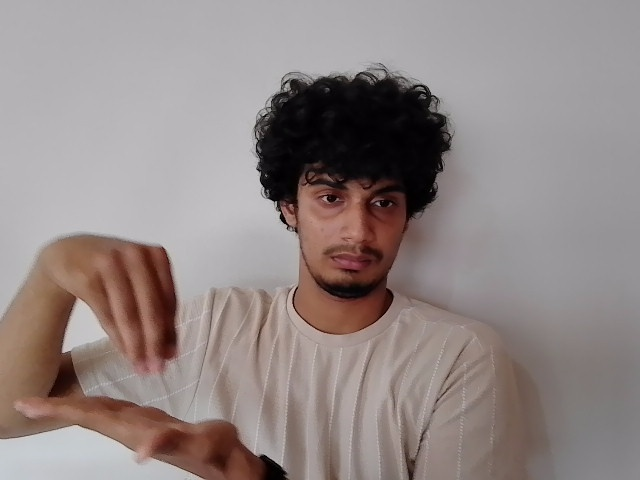learn: (23, 234, 240, 476)
